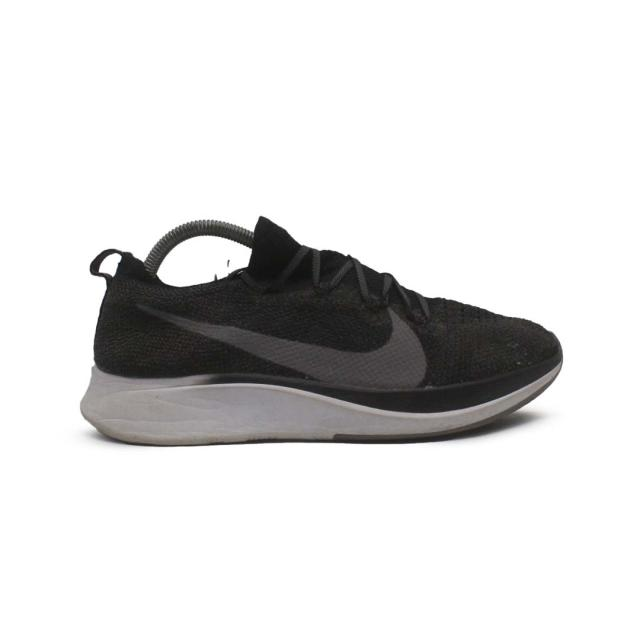heel: (92, 246, 164, 378)
midsole: (75, 364, 562, 442)
uppersole: (167, 219, 560, 411)
